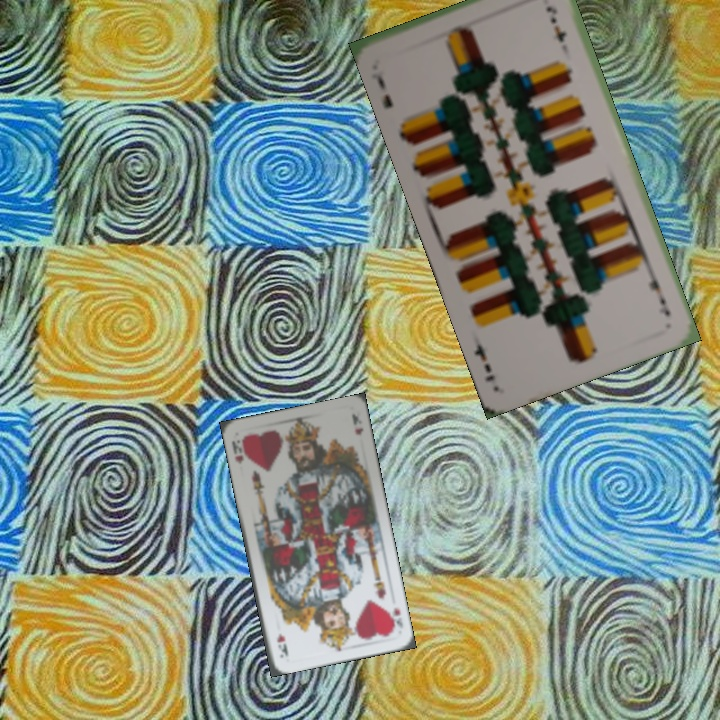E7: (644, 266, 673, 319), (370, 69, 395, 111)
HK: (384, 604, 405, 634), (227, 435, 246, 466)
